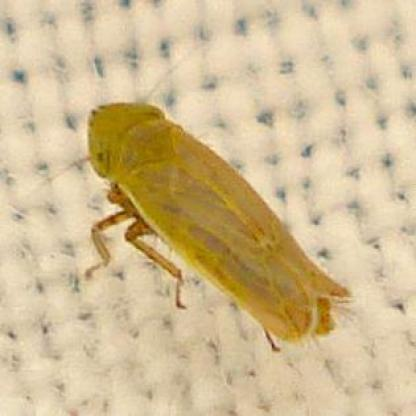green-leafhopper: (86, 103, 340, 341)
